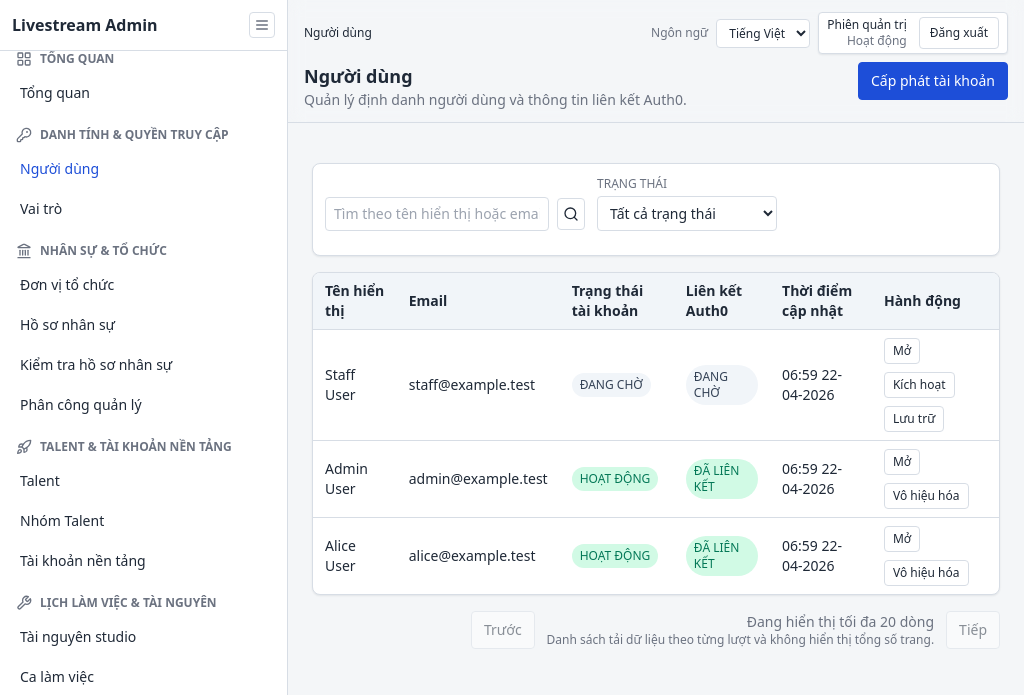
Test: user IA-1 surfaces › supports provision and lifecycle transition flows without User-owned Role assignment UI
Click the button "Cấp phát tài khoản" at (933, 81), box [858,62,1008,100]
(page scrolled)
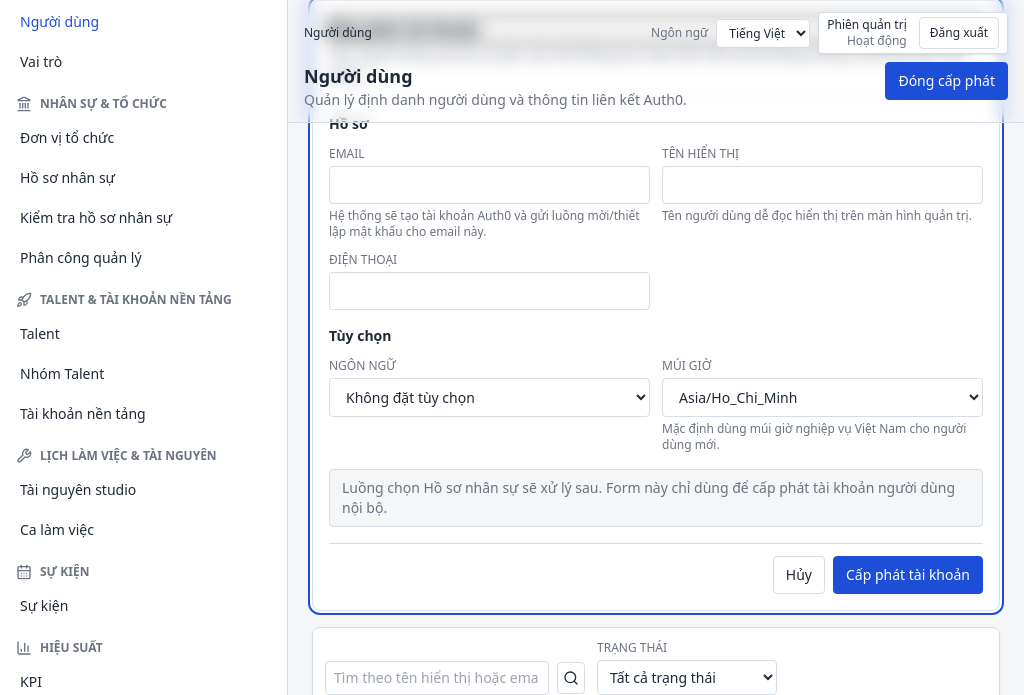
Now the element "Cấp phát tài khoản" is shown, box [312,0,1000,611]
Type "IA User" into the field labelled "Tên hiển thị" at (822, 185), box [662,166,983,204]
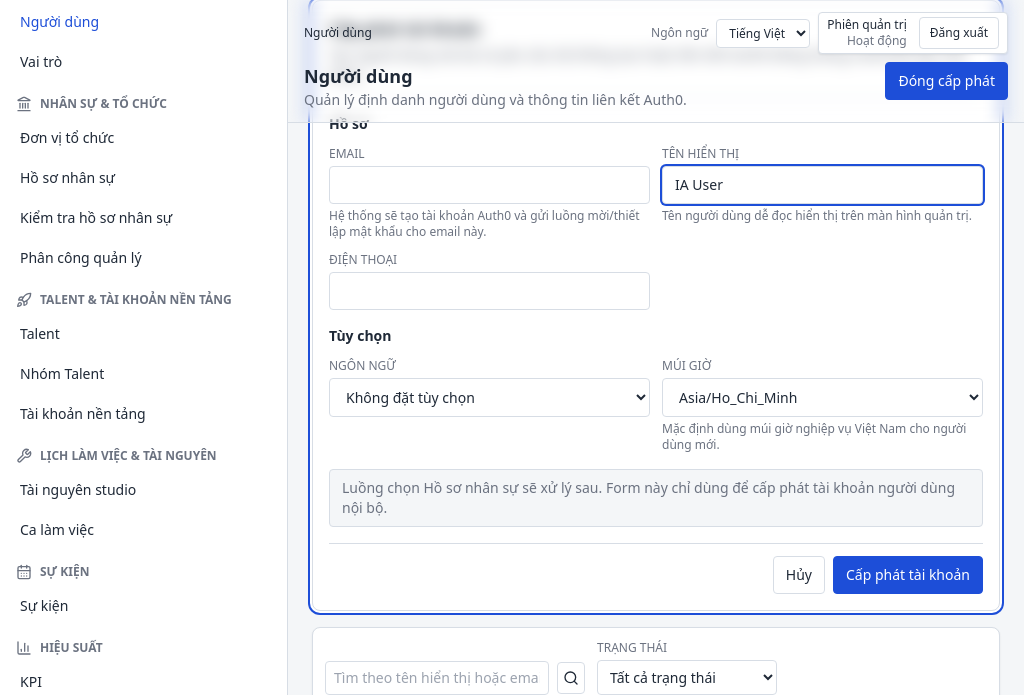
Type "ia-user@example.test" into the field labelled "Email" at (490, 185), box [329,166,650,204]
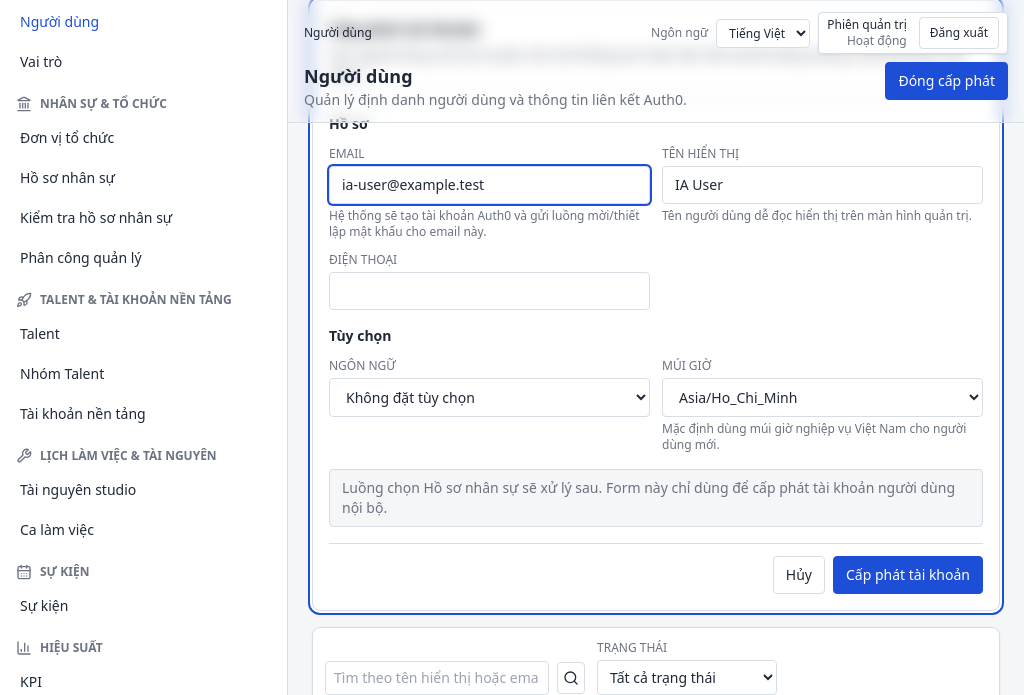
Click the button "Cấp phát tài khoản" at (908, 575), box [833,556,983,594]
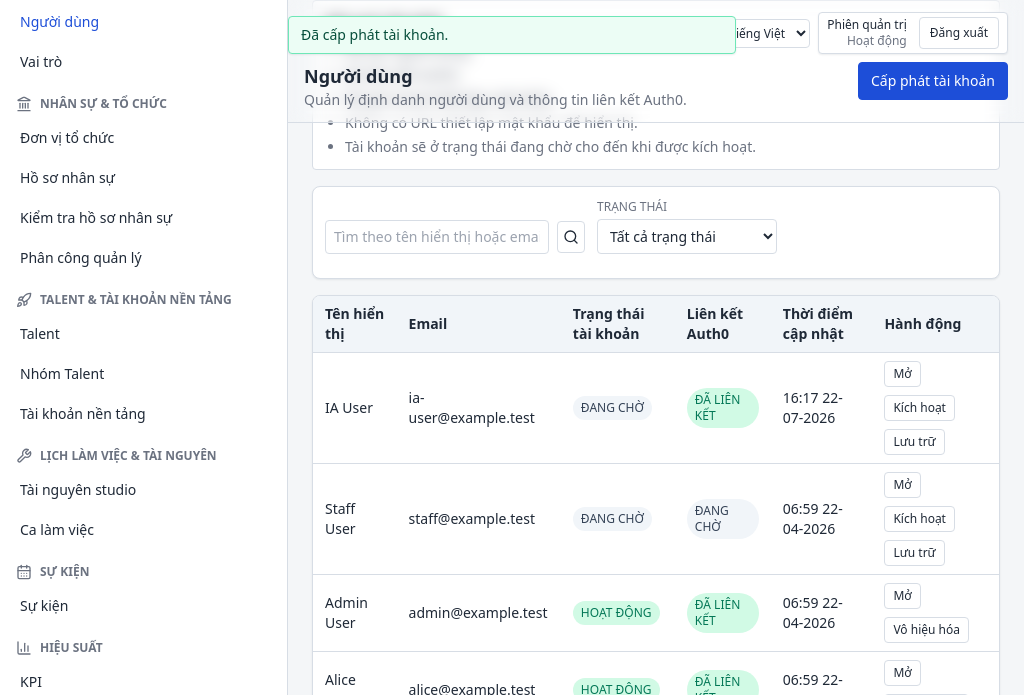
Now the heading "Kết quả cấp phát" is shown, box [325,13,443,32]
Now the list item "Không có URL thiết lập mật khẩu để hiển thị." is shown, box [345,113,638,132]
Now the text "IA User" is shown, box [313,352,397,464]
Click the button "Kích hoạt" in the row of "IA User" at (920, 408), box [884,395,955,421]
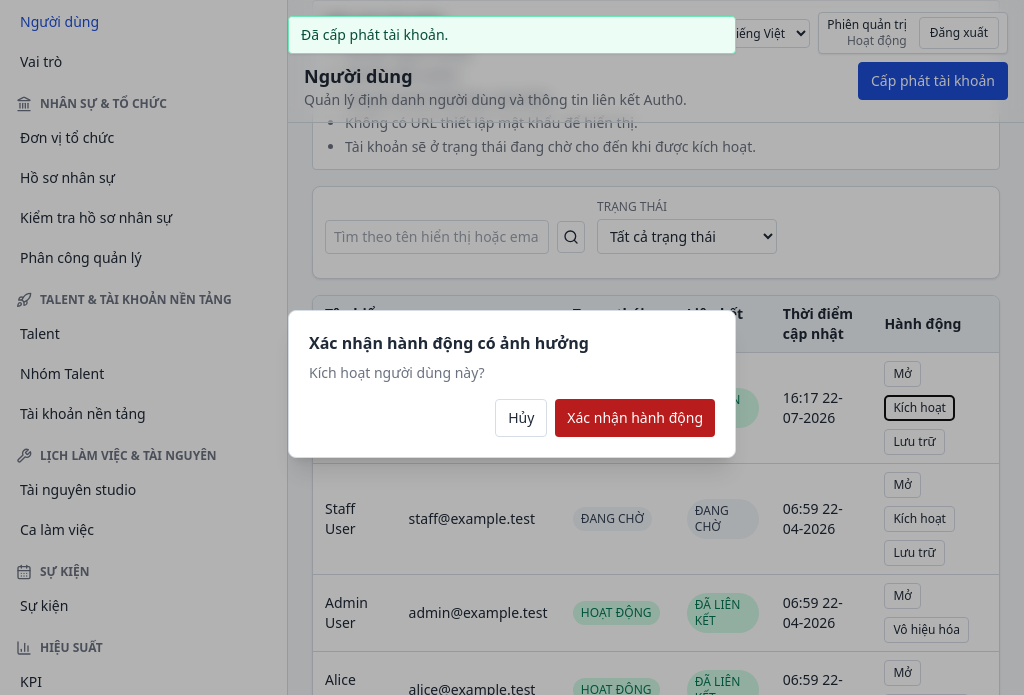
Click the button "Xác nhận hành động" at (635, 418), box [555,399,715,437]
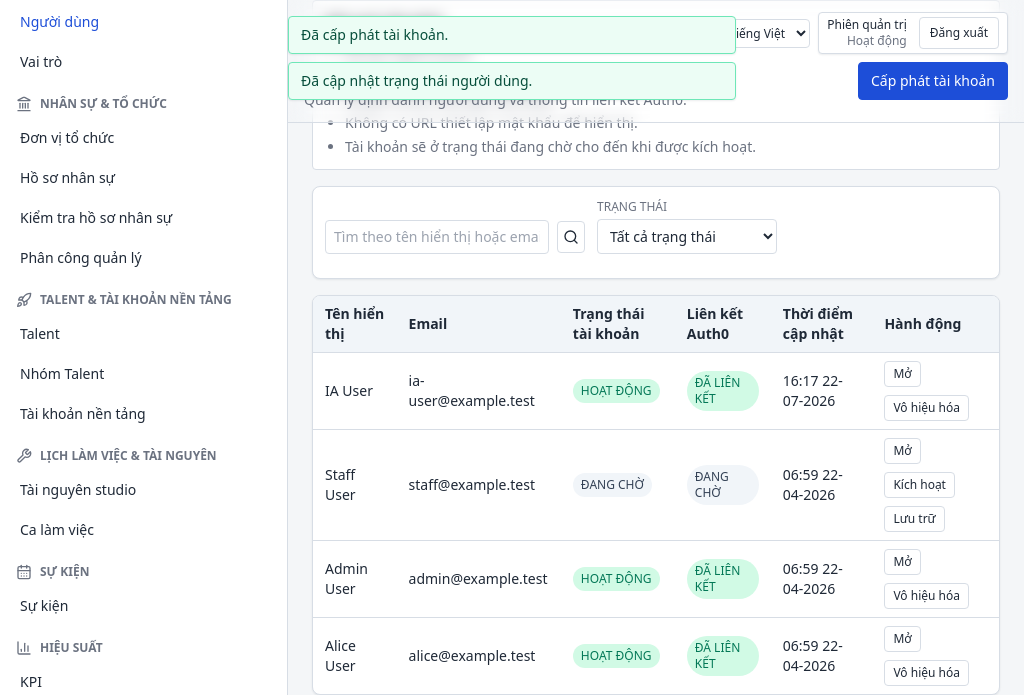
Now the text "IA User" is shown, box [325,381,373,400]
Now the text "Hoạt động" in the row of "IA User" is shown, box [581,382,652,399]
